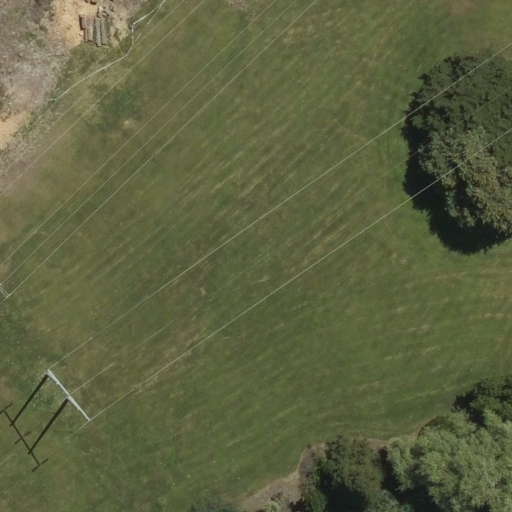DT: (38, 362, 99, 429)
